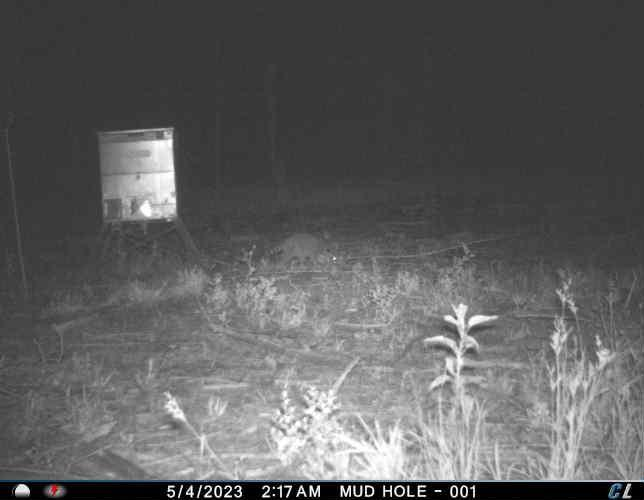Raccoon: (264, 231, 339, 275)
